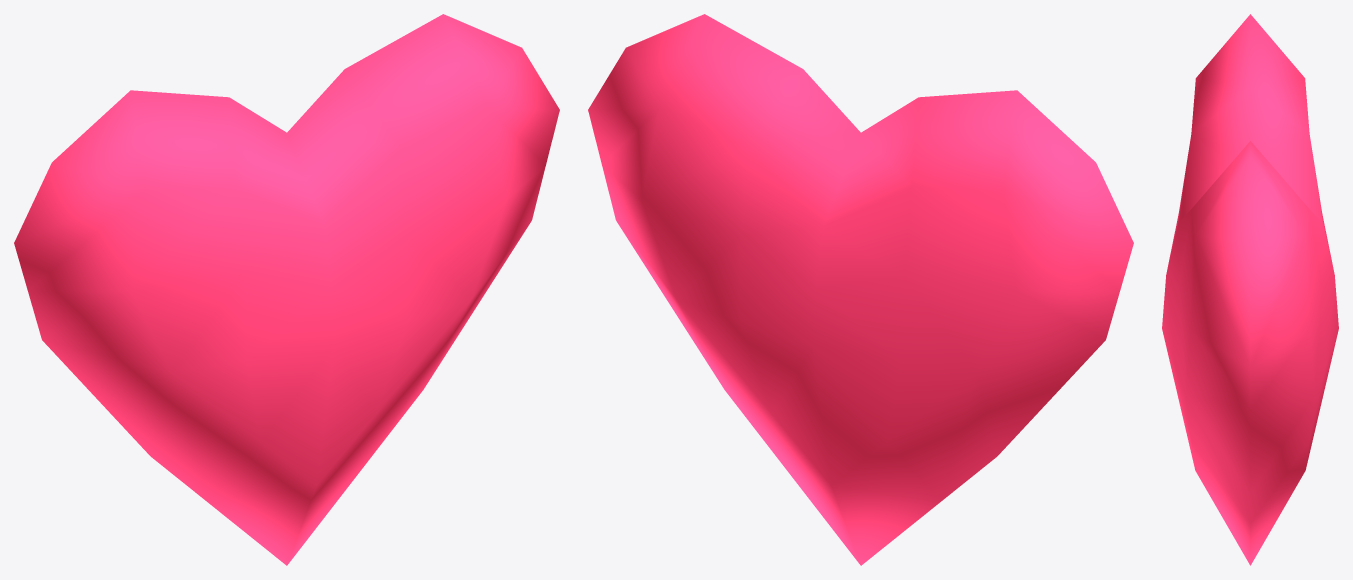
Rendered from heart.glb.
The picture shows the model from 3 angles, left to right: view 1: azimuth 30°, elevation 25°; view 2: azimuth 150°, elevation 25°; view 3: azimuth 270°, elevation 25°; orthographic projection. The views are drawn at different scales.
Visible parts, largest first — view 1: Heart; view 2: Heart; view 3: Heart.
Boxes of the visible parts, left/top/right/bottom form: Heart: left=14, top=14, right=559, bottom=565; Heart: left=588, top=14, right=1133, bottom=565; Heart: left=1162, top=14, right=1338, bottom=565.
Size of the model in its own units: 1 by 0.8994 by 0.3002.
